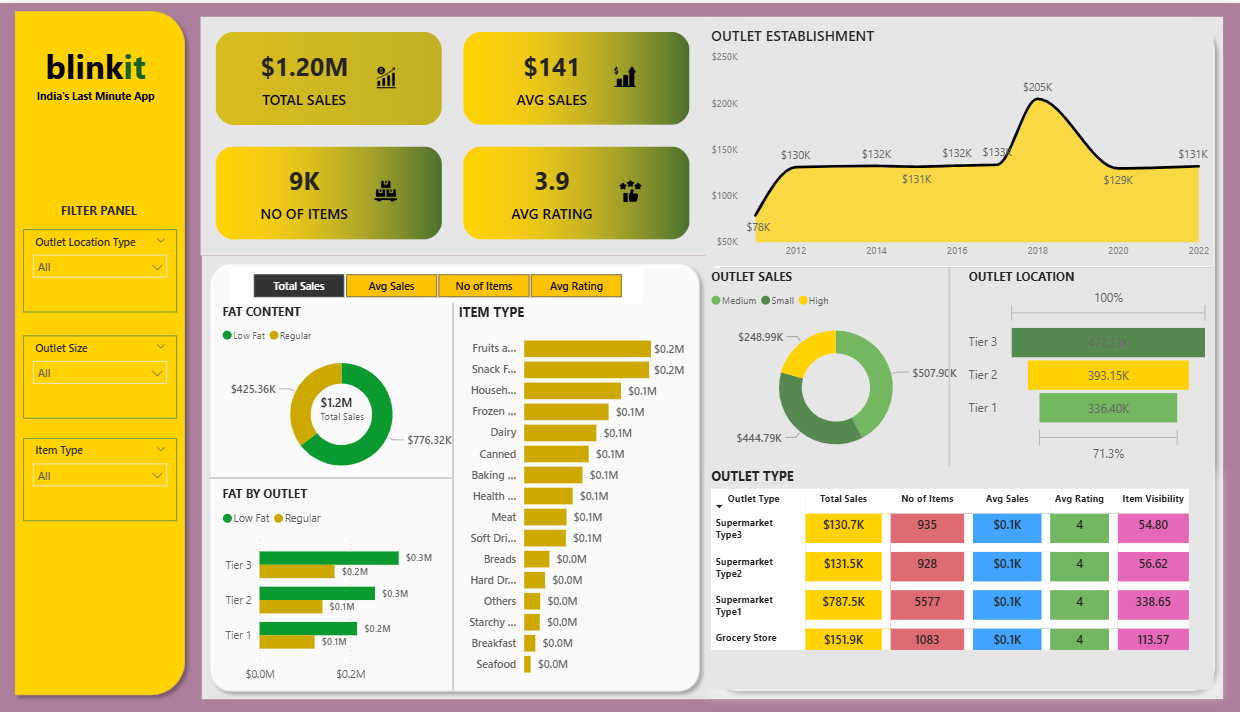

Layout of this report page (visuals, bound fields, positions):
{"tool":"powerbi","page":{"name":"Page 1","canvas":[1400,800],"ordinal":0},"visuals":[{"type":"shape","box":[10.4,0,209.8,788.9],"z":0},{"type":"textbox","box":[28.8,40.6,163.9,91.8],"z":1000},{"type":"cardVisual","fields":{"Data":["BlinkIT Grocery Data.Total Sales","BlinkIT Grocery Data.Avg Sales","BlinkIT Grocery Data.No of Items","BlinkIT Grocery Data.Avg Rating"]},"box":[228.7,15.6,569.3,269.1],"z":2000},{"type":"shape","box":[229.3,285,569.9,500],"z":3000},{"type":"donutChart","title":"FAT CONTENT","fields":{"Y":["BlinkIT Grocery Data.Total Sales"],"Category":["BlinkIT Grocery Data.Item Fat Content"]},"box":[247.4,338.1,278.5,206],"z":4000},{"type":"slicer","fields":{"Values":["Matrix 2.Matrix"]},"box":[261.7,297.9,465,40.2],"z":5000},{"type":"cardVisual","fields":{"Data":["BlinkIT Grocery Data.Total Sales"]},"box":[347.2,421,119.2,71.2],"z":6000},{"type":"clusteredBarChart","title":"FAT BY OUTLET","fields":{"Y":["BlinkIT Grocery Data.Total Sales"],"Category":["BlinkIT Grocery Data.Outlet Location Type"],"Series":["BlinkIT Grocery Data.Item Fat Content"]},"box":[247.4,544,265.5,230.6],"z":7000},{"type":"shape","box":[238.3,487,274.6,95.9],"z":8000},{"type":"shape","box":[392.5,338.1,239.6,436.5],"z":9000},{"type":"barChart","title":"ITEM TYPE","fields":{"Y":["BlinkIT Grocery Data.Total Sales"],"Category":["BlinkIT Grocery Data.Item Type"]},"box":[514.3,338.1,264.2,431.3],"z":10000},{"type":"shape","box":[797.1,15.7,582.9,768.6],"z":11000},{"type":"lineChart","title":"OUTLET ESTABLISHMENT","fields":{"Y":["BlinkIT Grocery Data.Total Sales"],"Category":["BlinkIT Grocery Data.Outlet Establishment Year"]},"box":[798.6,25.7,571.4,271.4],"z":12000},{"type":"shape","box":[814.8,250,555.7,95.9],"z":13000},{"type":"donutChart","title":"OUTLET SALES","fields":{"Y":["BlinkIT Grocery Data.Total Sales"],"Category":["BlinkIT Grocery Data.Outlet Size"]},"box":[798.6,298.6,291.4,224.3],"z":14000},{"type":"shape","box":[952.1,296.6,239.6,226.7],"z":15000},{"type":"funnel","title":"OUTLET LOCATION","fields":{"Category":["BlinkIT Grocery Data.Outlet Location Type"],"Y":["Sum(BlinkIT Grocery Data.Sales)"]},"box":[1088.6,298.6,281.4,224.3],"z":16000},{"type":"pivotTable","title":"OUTLET TYPE","fields":{"Values":["BlinkIT Grocery Data.Total Sales","BlinkIT Grocery Data.No of Items","BlinkIT Grocery Data.Avg Sales","BlinkIT Grocery Data.Avg Rating","Sum(BlinkIT Grocery Data.Item Visibility)"],"Rows":["BlinkIT Grocery Data.Outlet Type"]},"box":[798.6,522.9,571.4,251.4],"z":17000},{"type":"slicer","fields":{"Values":["BlinkIT Grocery Data.Outlet Location Type"]},"box":[28.5,255.2,173.6,93.3],"z":19000},{"type":"slicer","fields":{"Values":["BlinkIT Grocery Data.Outlet Size"]},"box":[28.5,374.4,173.6,93.3],"z":20000},{"type":"slicer","fields":{"Values":["BlinkIT Grocery Data.Item Type"]},"box":[28.5,489.6,173.6,93.3],"z":21000},{"type":"textbox","box":[38.9,217.6,149,32.4],"z":22000}]}

Visuals, with their boxes in screenshot pixels (x1, y1, x2, y2), scaled from the page's 1400x800 canvas onto the 1240x712 screenshot:
shape: [9, 0, 195, 702]
textbox: [26, 36, 171, 118]
cardVisual - BlinkIT Grocery Data.Total Sales x BlinkIT Grocery Data.Avg Sales: [203, 14, 707, 253]
shape: [203, 254, 708, 699]
"FAT CONTENT" donutChart: [219, 301, 466, 484]
slicer - Matrix 2.Matrix: [232, 265, 644, 301]
cardVisual - BlinkIT Grocery Data.Total Sales: [308, 375, 413, 438]
"FAT BY OUTLET" clusteredBarChart: [219, 484, 454, 689]
shape: [211, 433, 454, 519]
shape: [348, 301, 560, 689]
"ITEM TYPE" barChart: [456, 301, 690, 685]
shape: [706, 14, 1222, 698]
"OUTLET ESTABLISHMENT" lineChart: [707, 23, 1213, 264]
shape: [722, 222, 1214, 308]
"OUTLET SALES" donutChart: [707, 266, 965, 465]
shape: [843, 264, 1056, 466]
"OUTLET LOCATION" funnel: [964, 266, 1213, 465]
"OUTLET TYPE" pivotTable: [707, 465, 1213, 689]
slicer - BlinkIT Grocery Data.Outlet Location Type: [25, 227, 179, 310]
slicer - BlinkIT Grocery Data.Outlet Size: [25, 333, 179, 416]
slicer - BlinkIT Grocery Data.Item Type: [25, 436, 179, 519]
textbox: [34, 194, 166, 222]
